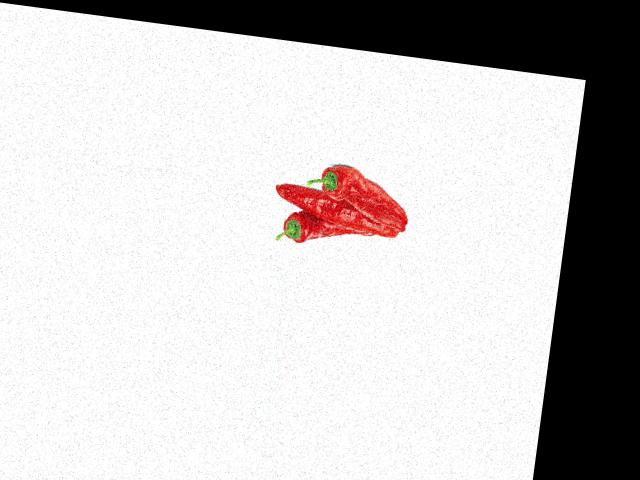bell_pepper: (300, 157, 415, 220)
